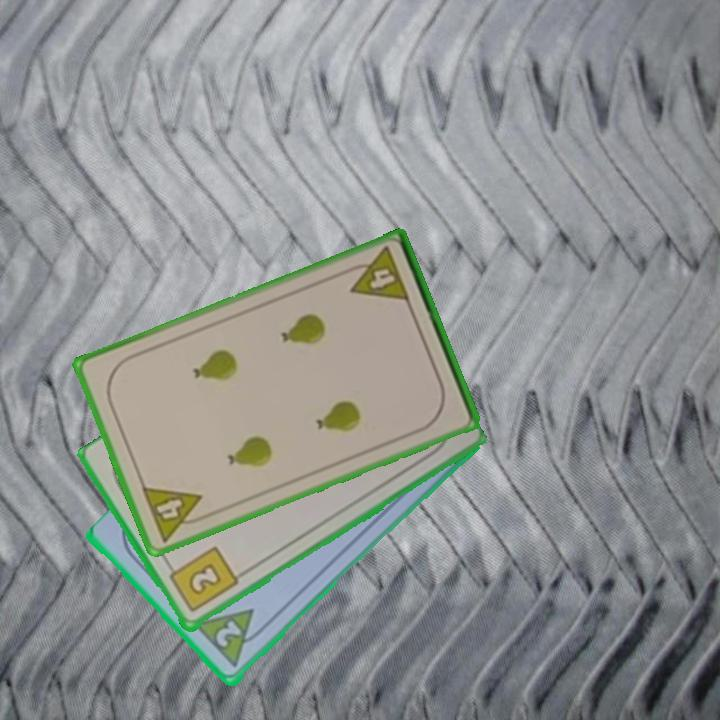2b: (163, 543, 241, 616)
2p: (212, 617, 245, 651)
4p: (138, 483, 212, 545), (341, 243, 413, 306)
